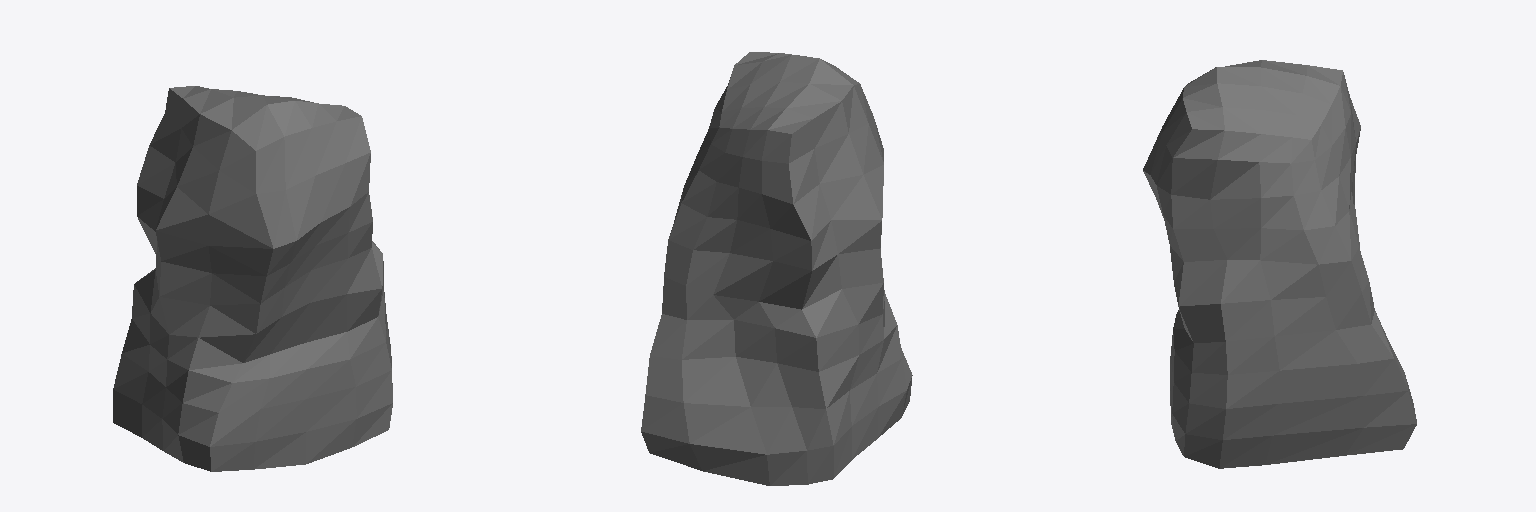
The model's file is Cliff1.obj.
3 views of the same model, side by side, from view 1: azimuth 30°, elevation 25°; view 2: azimuth 150°, elevation 25°; view 3: azimuth 270°, elevation 25° (orthographic).
Parts seen in each view (by area): view 1: Cliff1:pCube1; view 2: Cliff1:pCube1; view 3: Cliff1:pCube1.
Boxes of the visible parts, box(x1,y1,x2,y2) form: Cliff1:pCube1: box(113, 86, 392, 471); Cliff1:pCube1: box(641, 52, 912, 485); Cliff1:pCube1: box(1143, 60, 1416, 468).
Bounding box in the file's own units: 5.86 × 9.27 × 6.43.